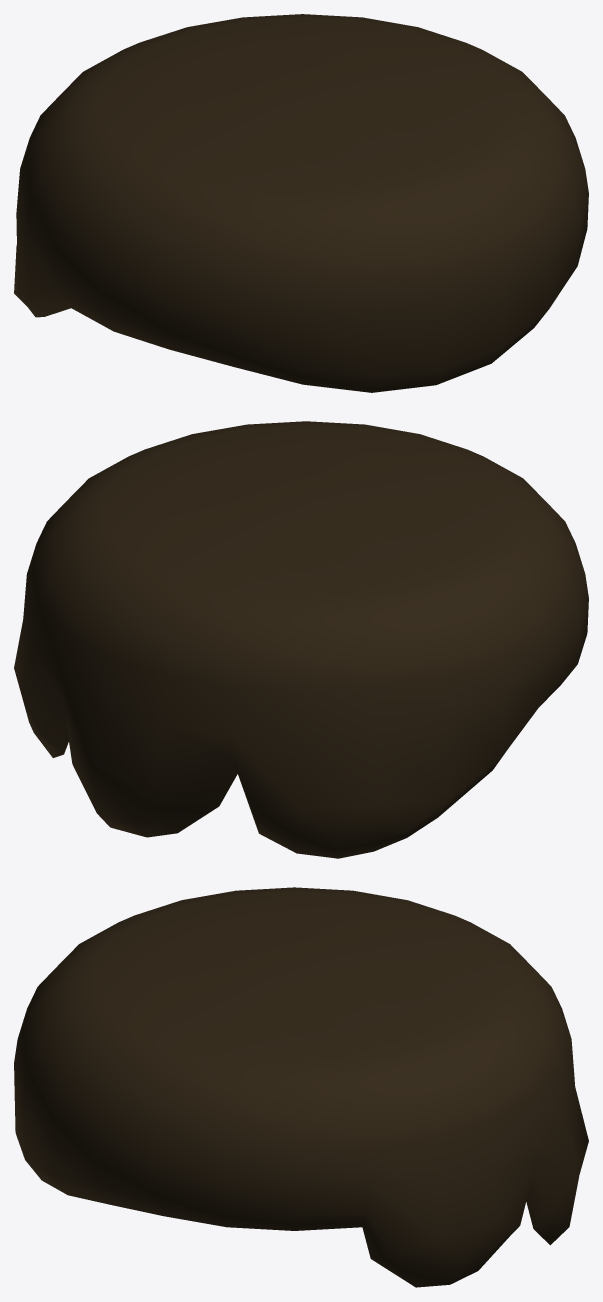
The model's file is MM_Brian_Hair.fbx.
3 views of the same model, one above another, from view 1: azimuth 30°, elevation 25°; view 2: azimuth 150°, elevation 25°; view 3: azimuth 270°, elevation 25° (orthographic). The views are drawn at different scales.
Parts seen in each view (by area): view 1: MM_Brian_Hair; view 2: MM_Brian_Hair; view 3: MM_Brian_Hair.
Boxes of the visible parts, x1=… form: MM_Brian_Hair: x1=14, y1=14, x2=588, y2=392; MM_Brian_Hair: x1=14, y1=421, x2=588, y2=858; MM_Brian_Hair: x1=14, y1=887, x2=588, y2=1287.
Bounding box in the file's own units: 21.85 × 10.72 × 22.38.
